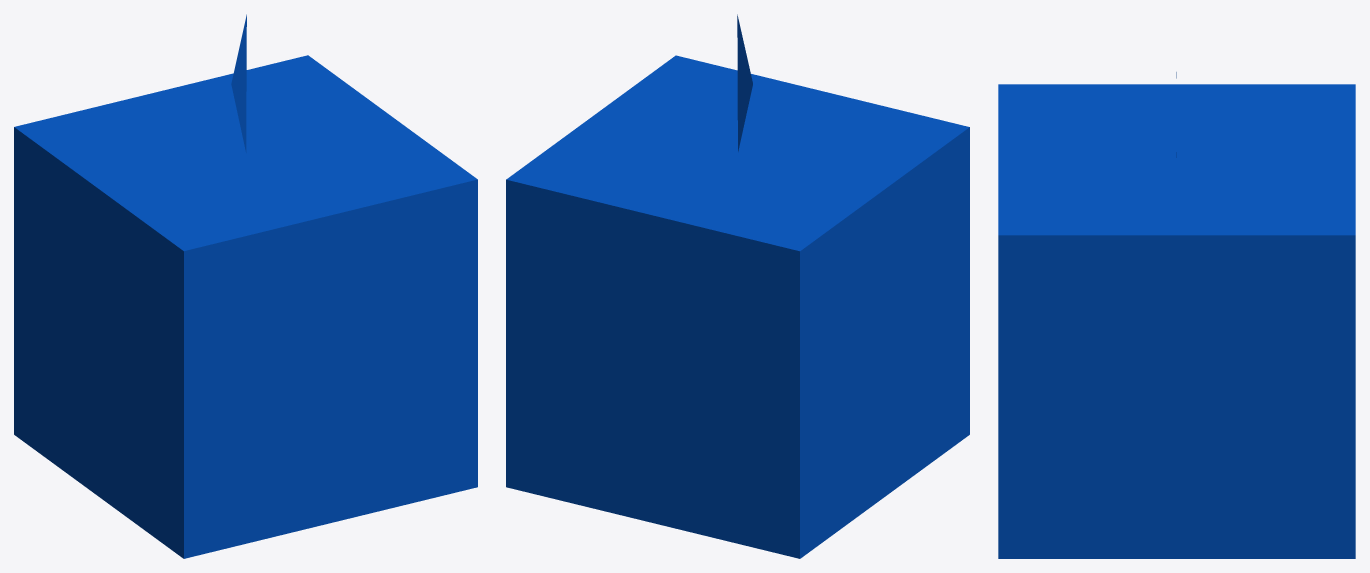
File: wire.fbx
3 renders of one model, left to right at view 1: azimuth 30°, elevation 25°; view 2: azimuth 150°, elevation 25°; view 3: azimuth 270°, elevation 25°, orthographic. The views are drawn at different scales.
Parts seen in each view (by area): view 1: obj1; view 2: obj1; view 3: obj1.
Boxes of the visible parts, x1,y1,x2,y2 form: obj1: (14,14,477,558); obj1: (506,14,969,558); obj1: (998,72,1355,558).
Bounding box in the file's own units: 200 × 290 × 200.
